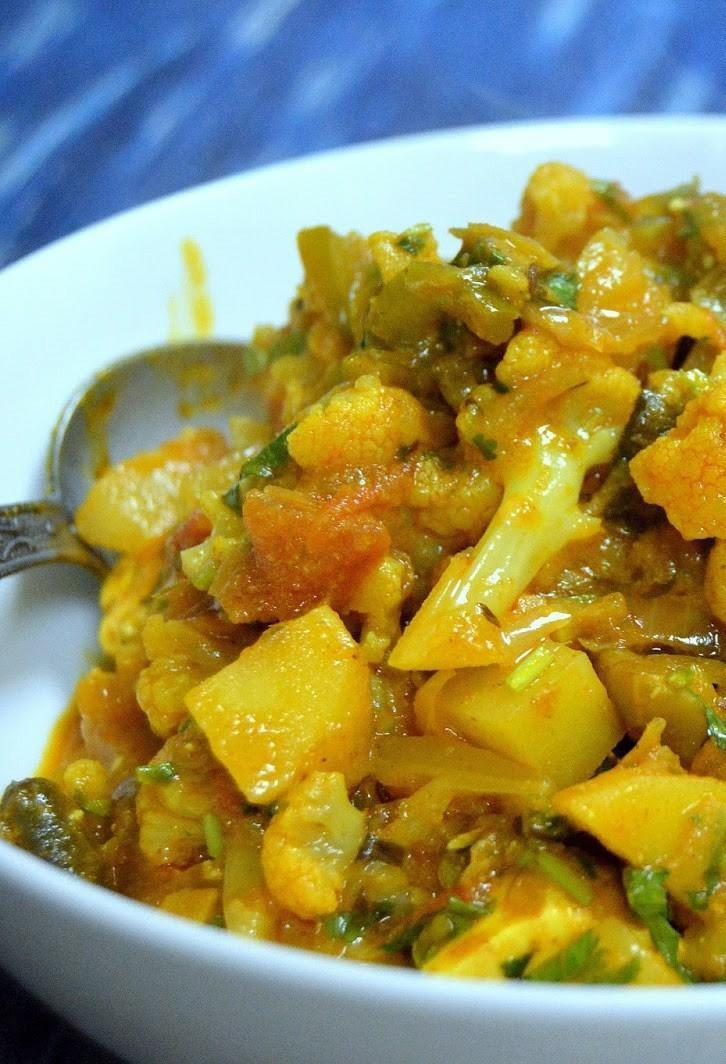AlooGobi: (3, 162, 726, 982)
